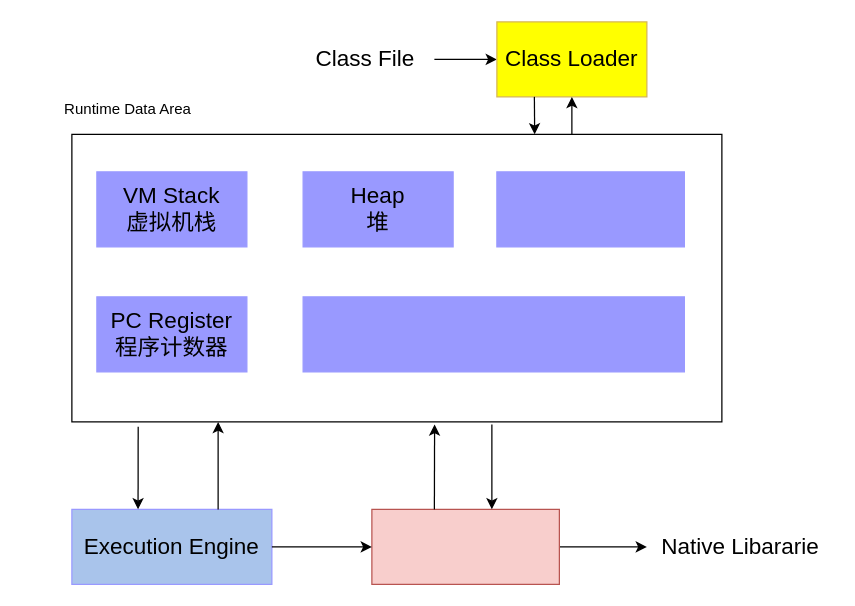
Some shapes in this 855 by 606 pixel diagram are drawn without their labels. The box of each missing label's shape, as (x1, y1, x2, y2) in pixels:
Method Area 方法区: (496, 171, 684, 247)
Native Interface: (371, 508, 559, 584)
Native Method Stack 本地方法栈: (302, 296, 684, 372)
